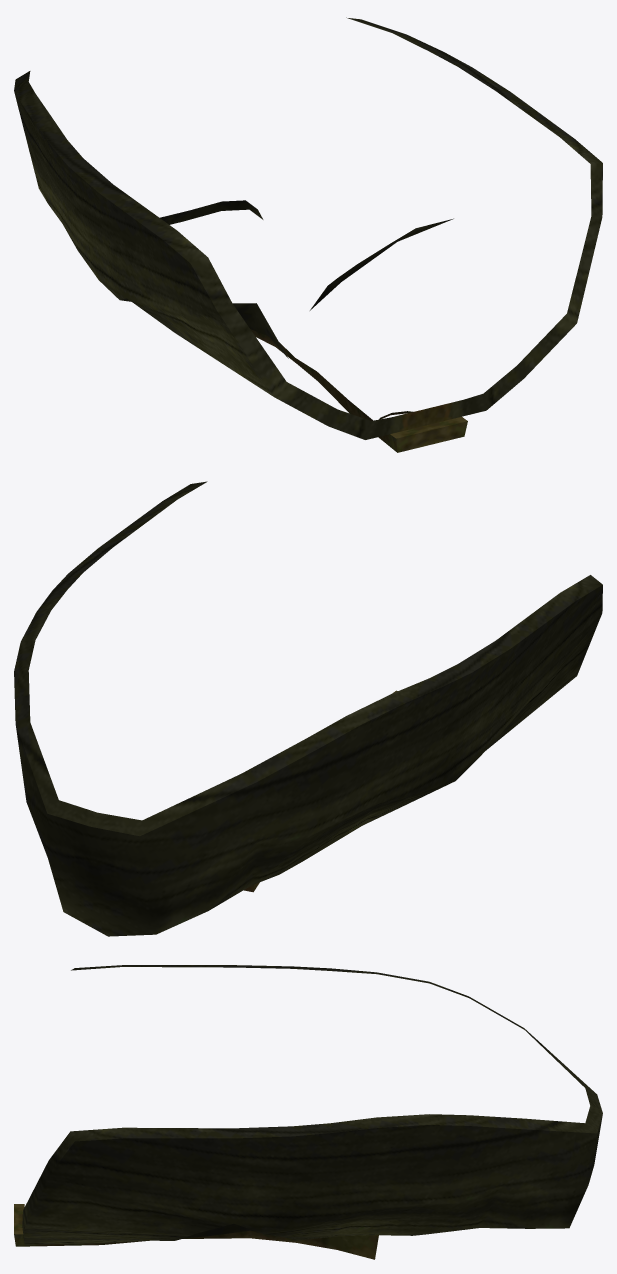
File: mask.glb
3 views of the same model, one above another, from view 1: azimuth 30°, elevation 25°; view 2: azimuth 150°, elevation 25°; view 3: azimuth 270°, elevation 25° (orthographic). The views are drawn at different scales.
Parts seen in each view (by area): view 1: Mask; view 2: Mask; view 3: Mask.
Boxes of the visible parts, bbox=[...] form: Mask: bbox=[14, 17, 602, 452]; Mask: bbox=[14, 481, 602, 936]; Mask: bbox=[14, 965, 602, 1259].
Bounding box in the file's own units: 0.1726 × 0.0936 × 0.2478.
1 material, 1 textured.
